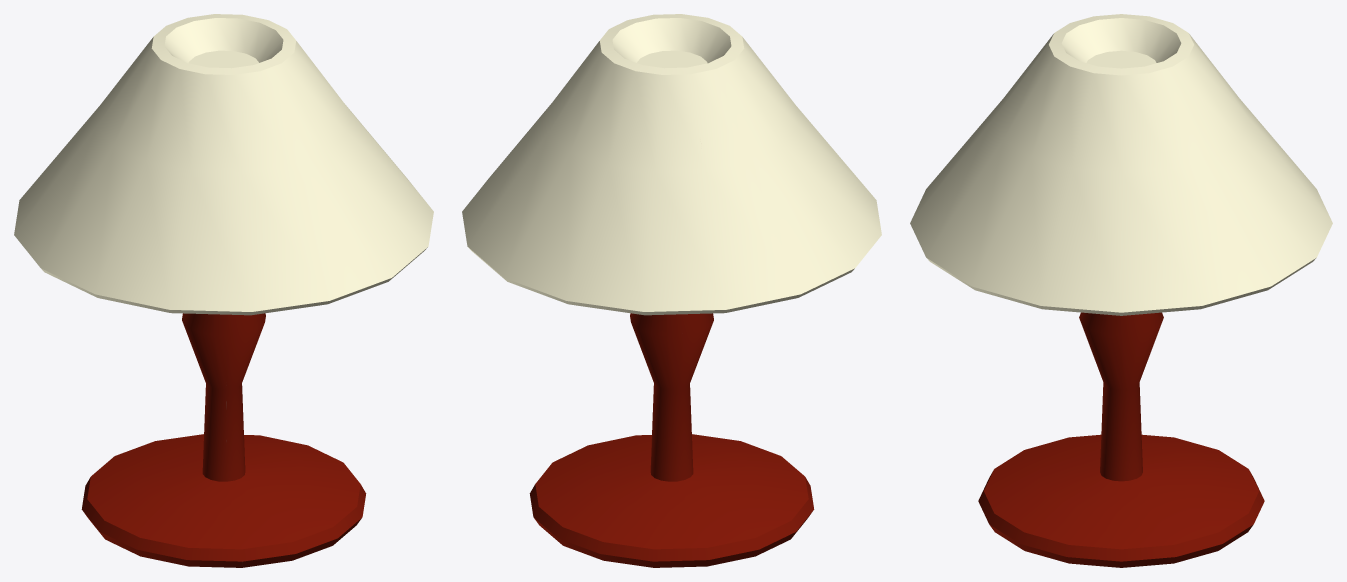
File: AslanHouse_smallLamp.fbx
3 renders of one model, left to right at view 1: azimuth 30°, elevation 25°; view 2: azimuth 150°, elevation 25°; view 3: azimuth 270°, elevation 25°, orthographic.
Parts seen in each view (by area): view 1: LampShade1; view 2: LampShade1; view 3: LampShade1.
Part boxes in pixels (x1=…): LampShade1: x1=14, y1=14, x2=433, y2=567; LampShade1: x1=462, y1=14, x2=881, y2=567; LampShade1: x1=910, y1=14, x2=1332, y2=567.
Size of the model in its own units: 64.05 by 77.99 by 64.05.
1 material, 1 textured.
